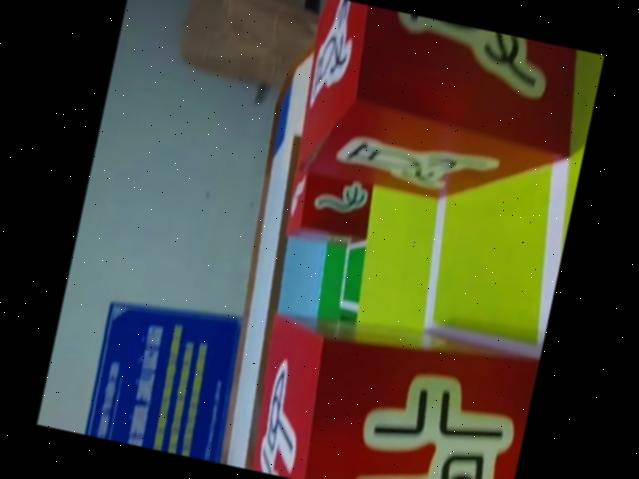R2 Real: (286, 0, 591, 224), (240, 295, 540, 479), (277, 150, 390, 253)
